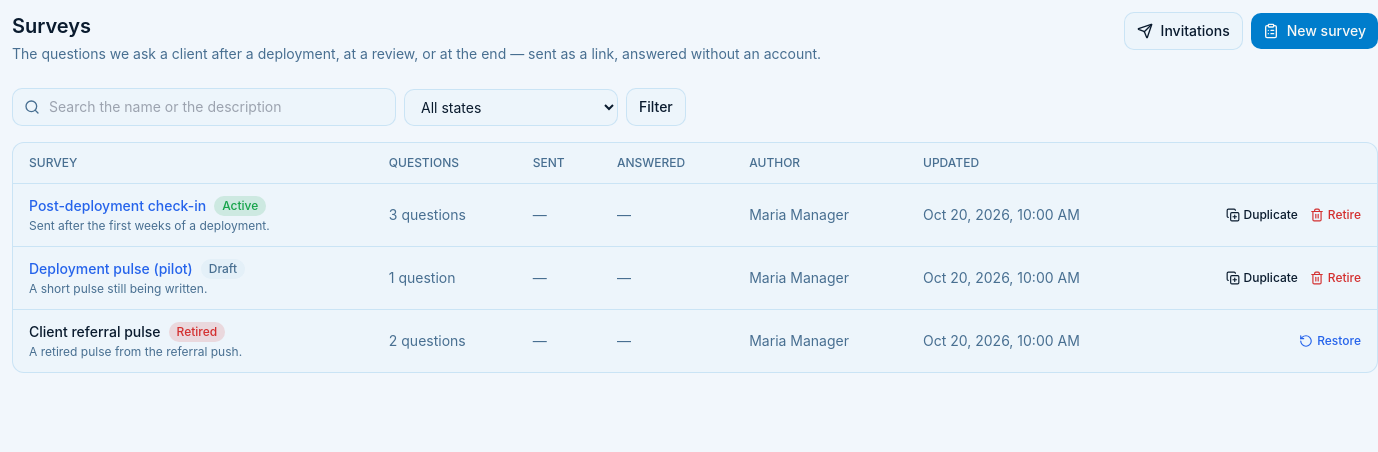
Test case: Survey library › restores a retired survey
Click the button "Restore": point(1330, 341) 1299,333 -> 1361,349
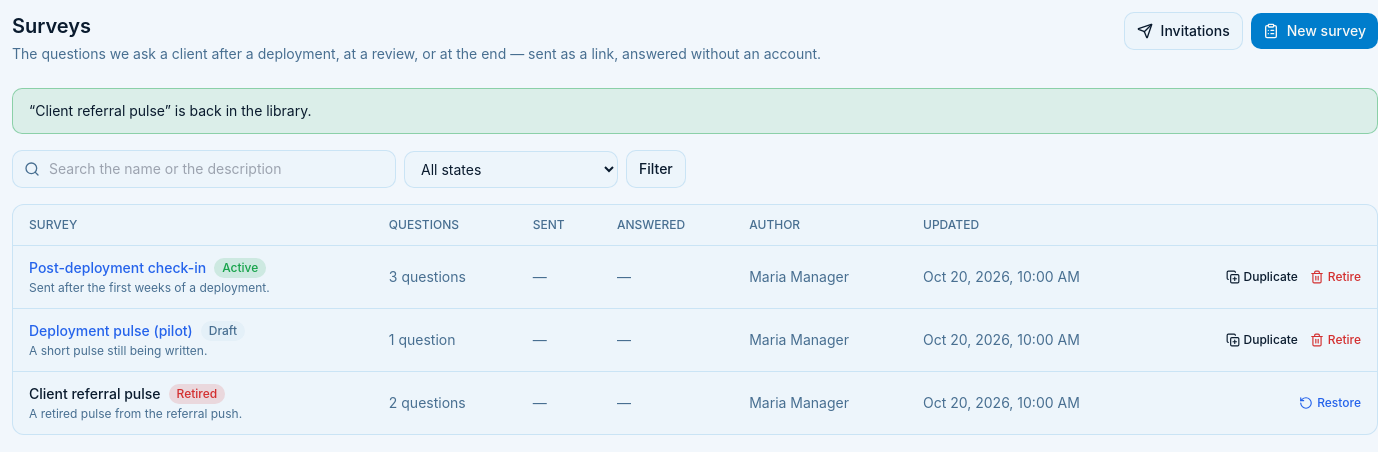
Result: the text "“Client referral pulse” is back in the library." is shown at 29,102 -> 312,119
